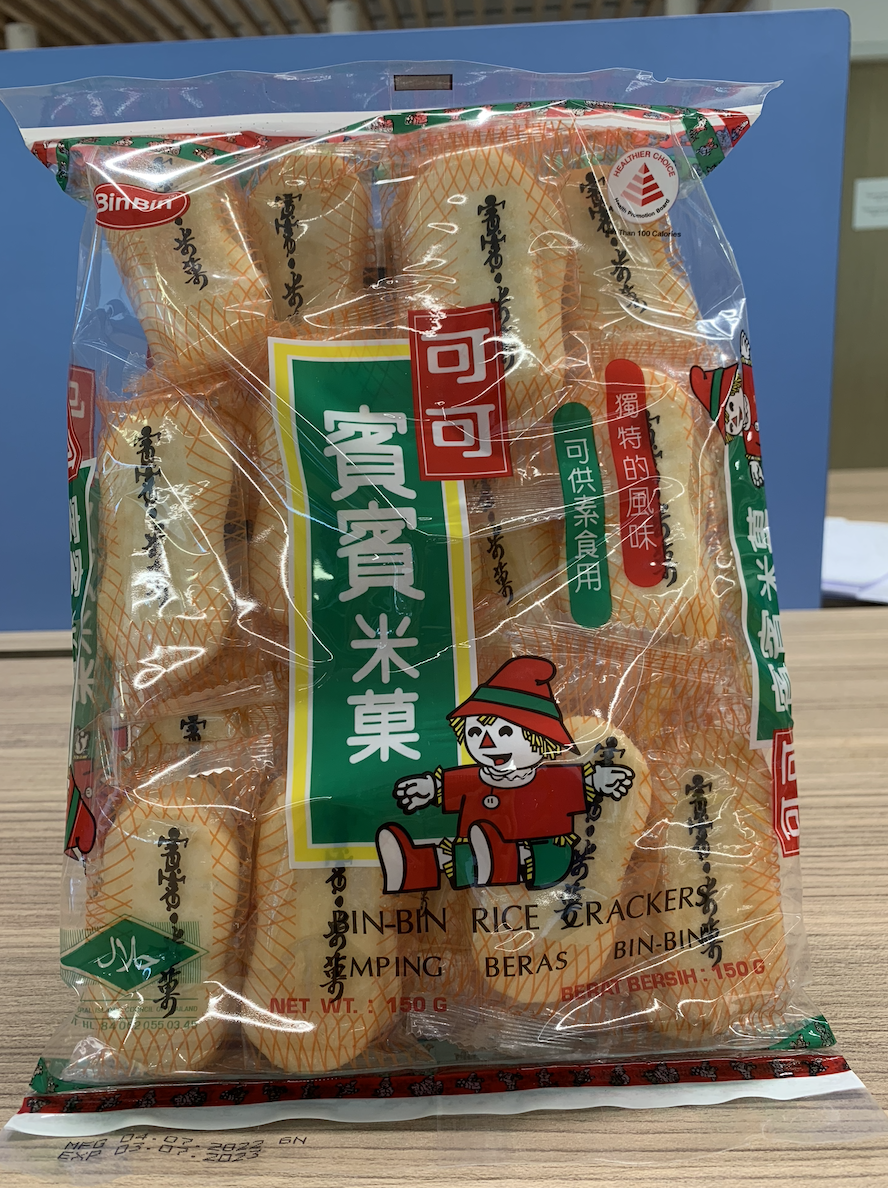crackers_100g-199g: (80, 114, 798, 1090)
